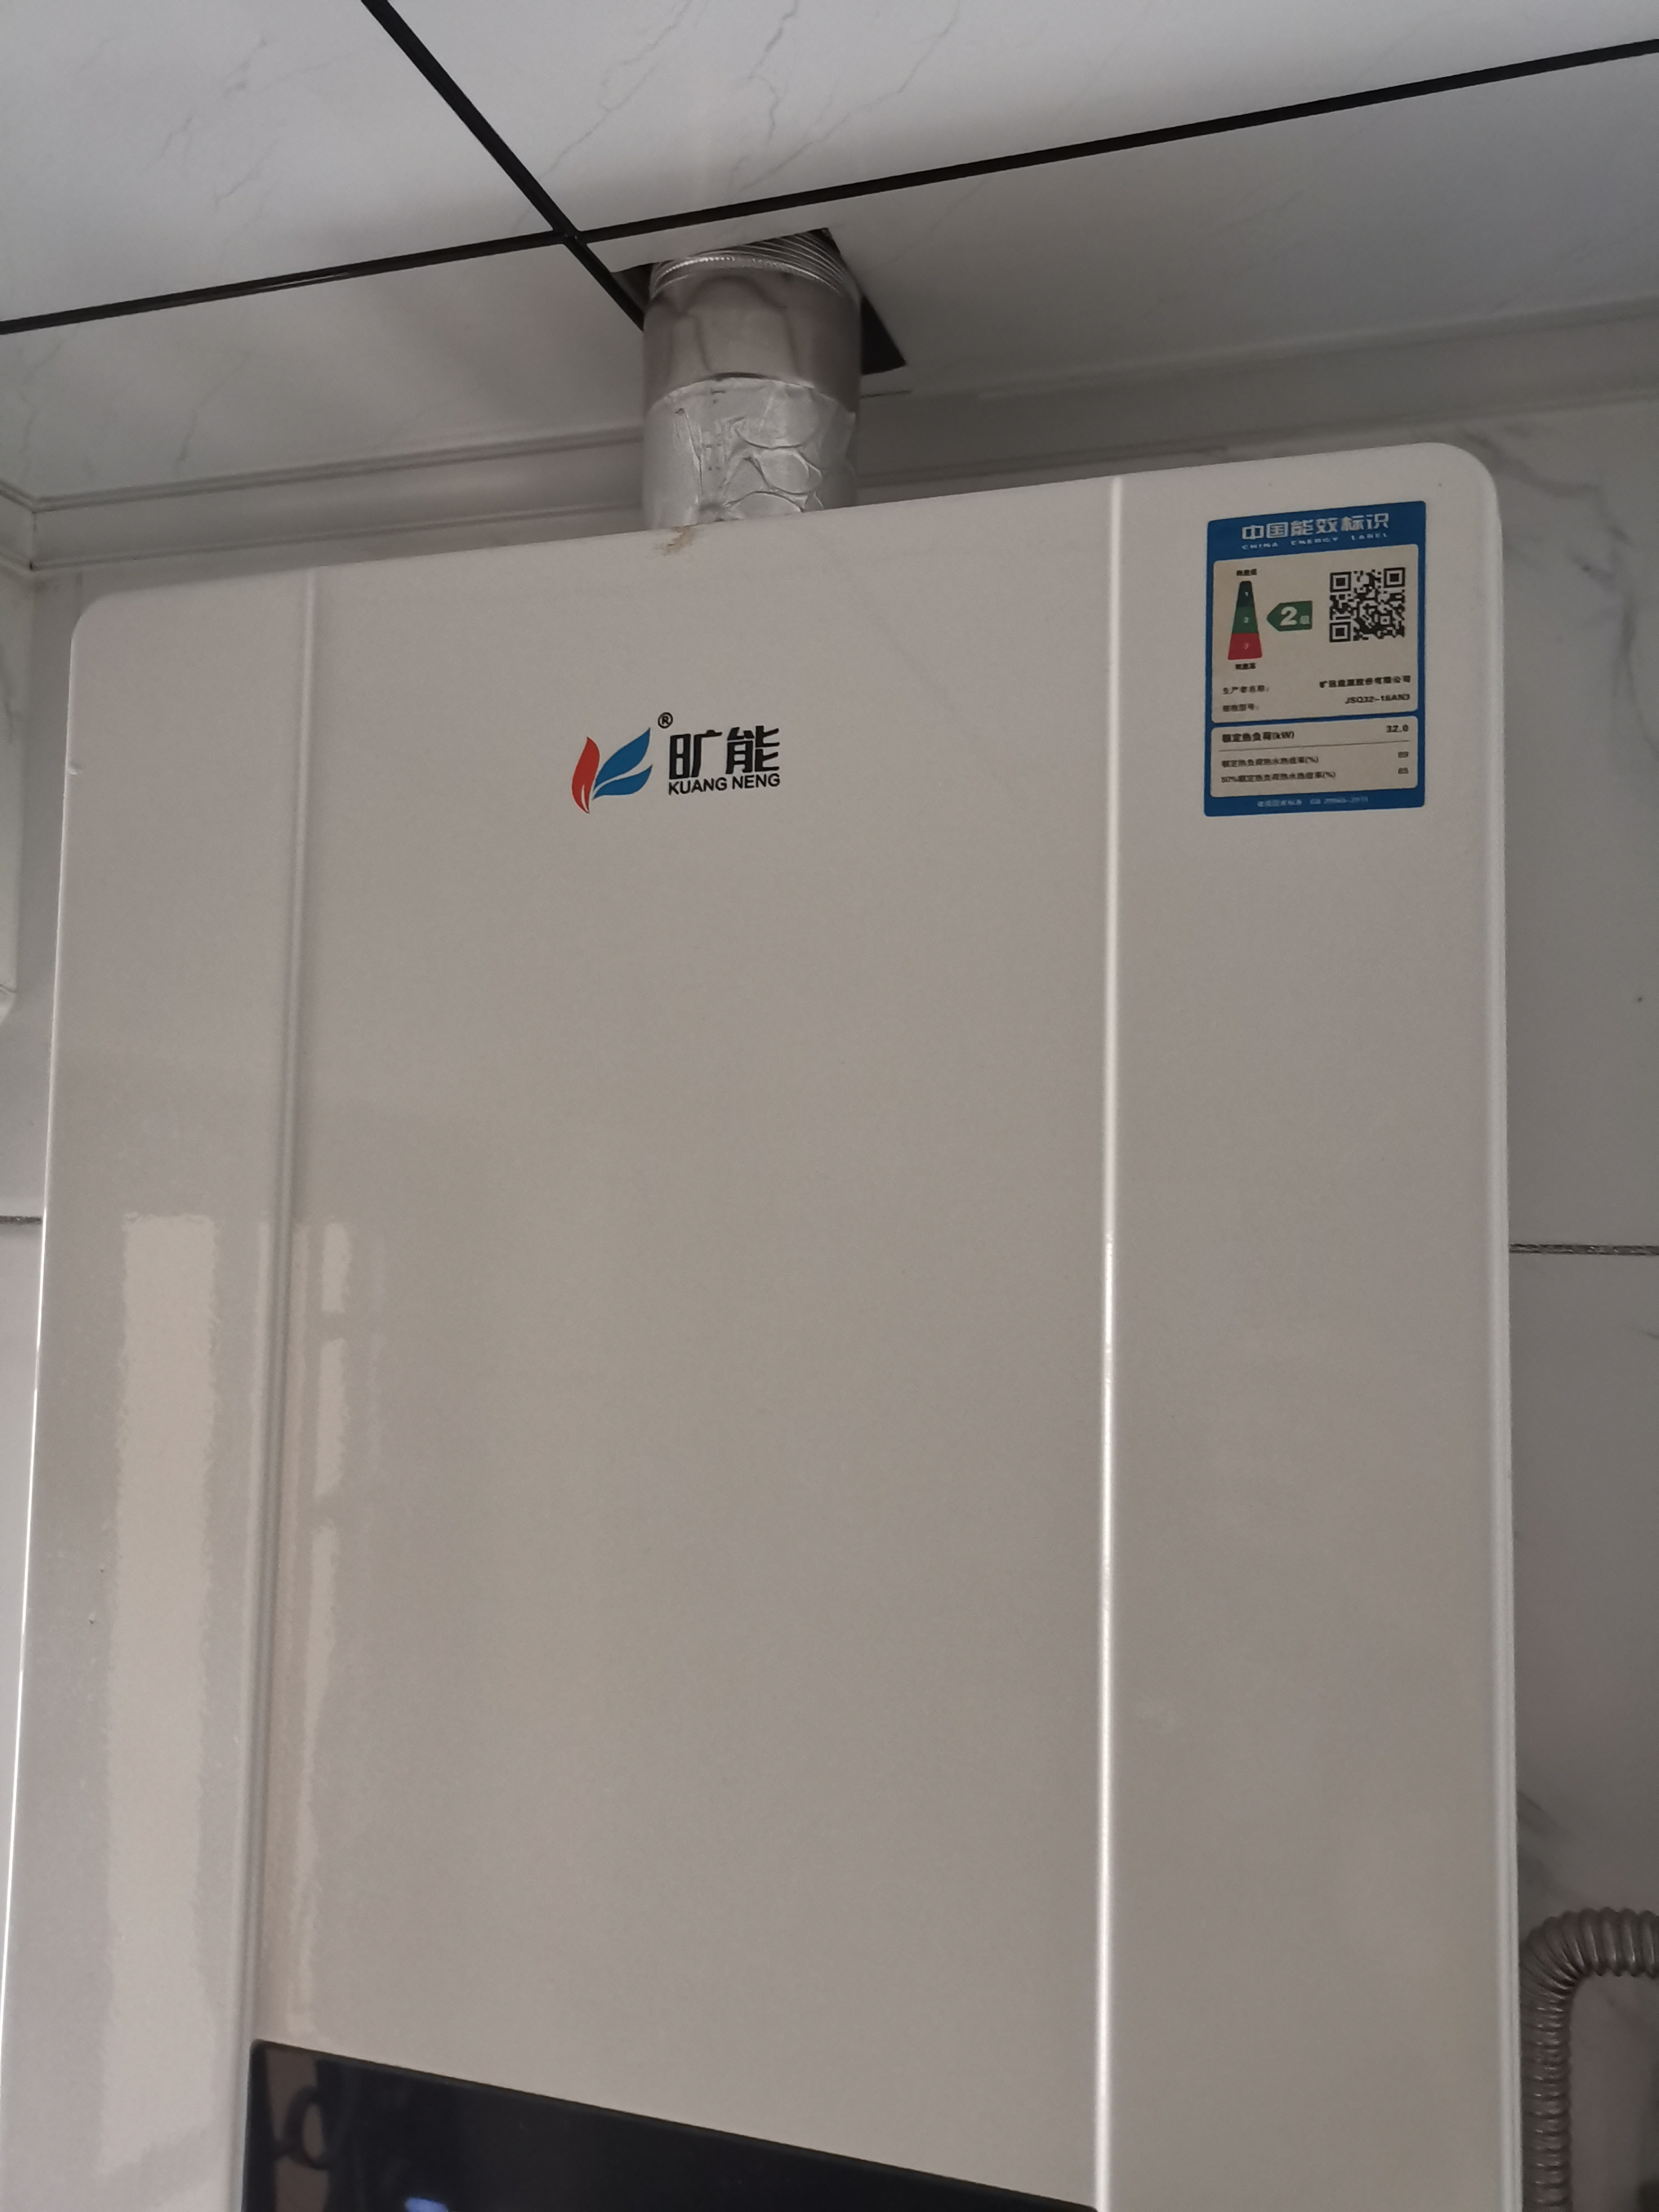loudou: (551, 702, 805, 824)
